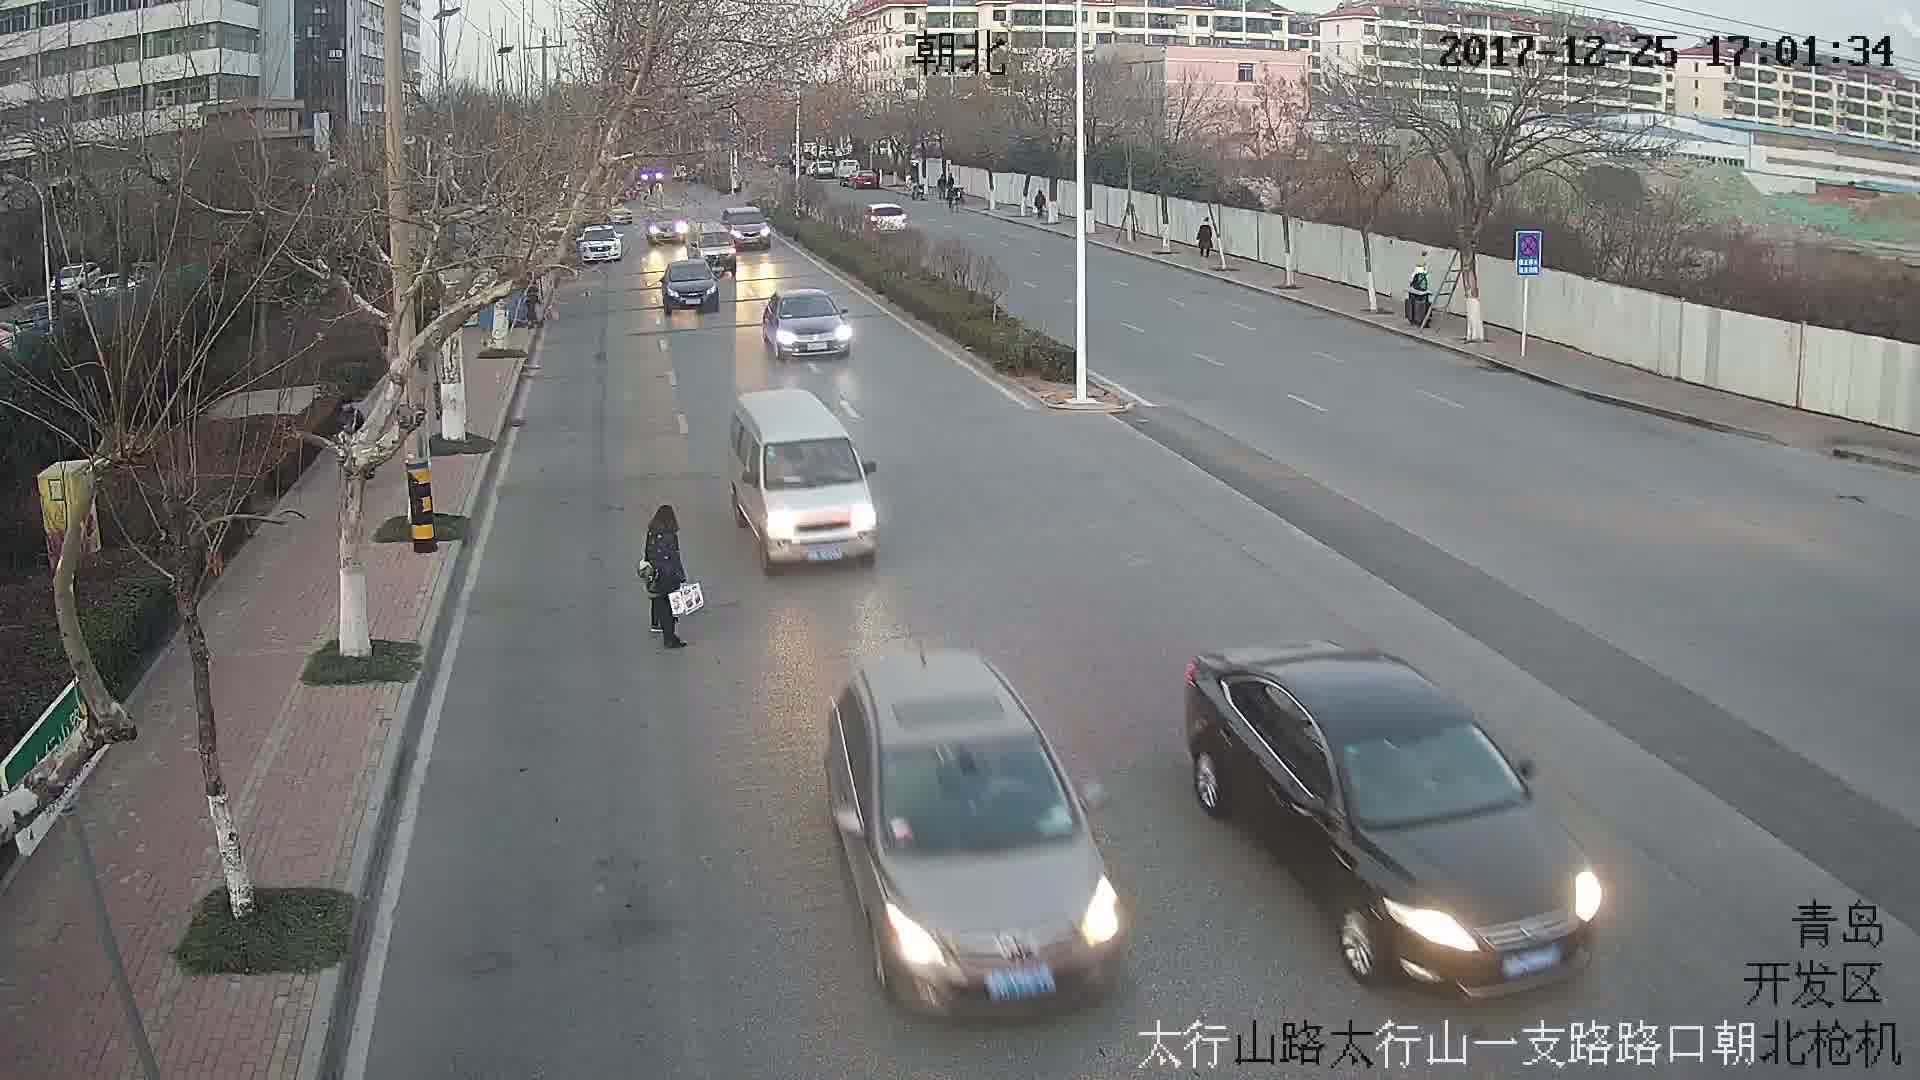car: (1184, 645, 1609, 999), (827, 650, 1123, 1019), (727, 391, 878, 570), (759, 289, 852, 357), (659, 260, 721, 316), (575, 225, 624, 262), (645, 209, 687, 246)
person: (637, 507, 699, 648), (1198, 213, 1213, 257)
